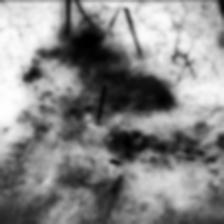Potentially Malignant Skin Tumors: (63, 32, 173, 110)
